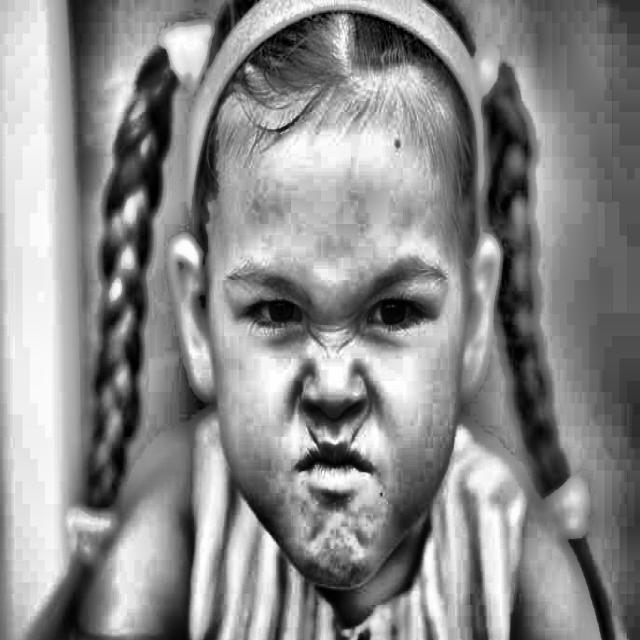angry: (143, 4, 539, 617)
